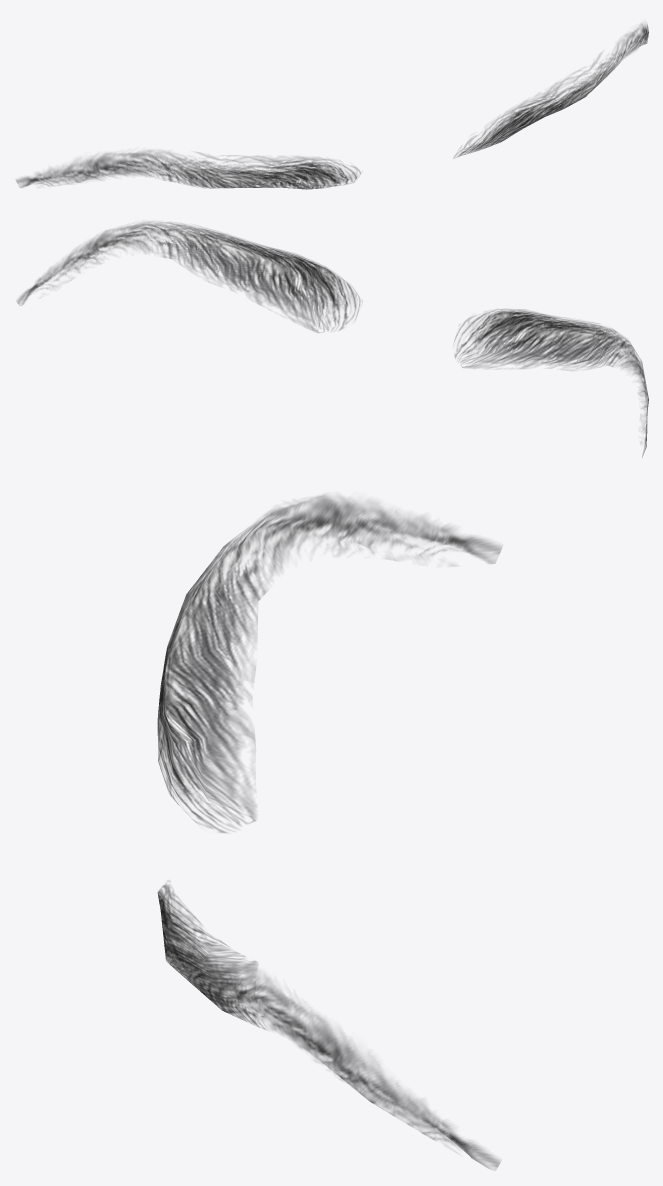
Rendered from brows_eyebrow008.gltf.
3 renders of one model, top to bottom at view 1: azimuth 30°, elevation 25°; view 2: azimuth 150°, elevation 25°; view 3: azimuth 270°, elevation 25°, orthographic. The views are drawn at different scales.
Parts seen in each view (by area): view 1: brows_eyebrow008; view 2: brows_eyebrow008; view 3: brows_eyebrow008.
Part boxes in pixels (bbox=[...]): brows_eyebrow008: bbox=[16, 22, 648, 189]; brows_eyebrow008: bbox=[17, 221, 648, 457]; brows_eyebrow008: bbox=[157, 494, 501, 1168].
Size of the model in its own units: 0.1164 by 0.0137 by 0.0279.
1 material, 1 textured.
